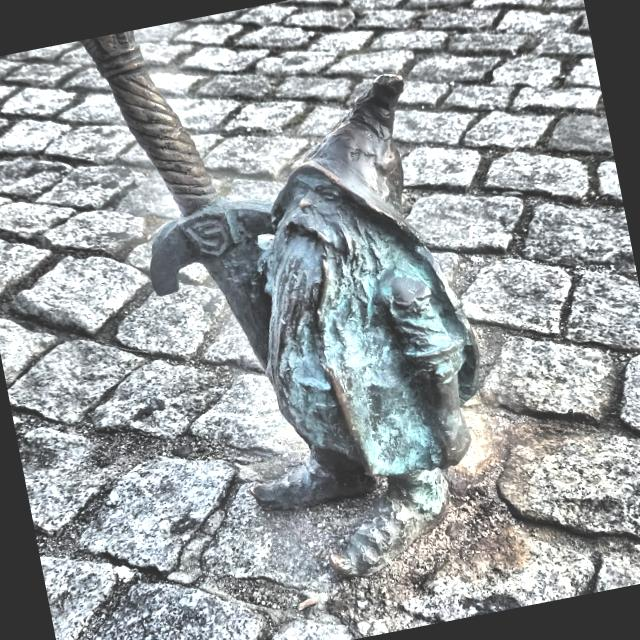Giermek_Grun-Waldek: (80, 30, 479, 574)
